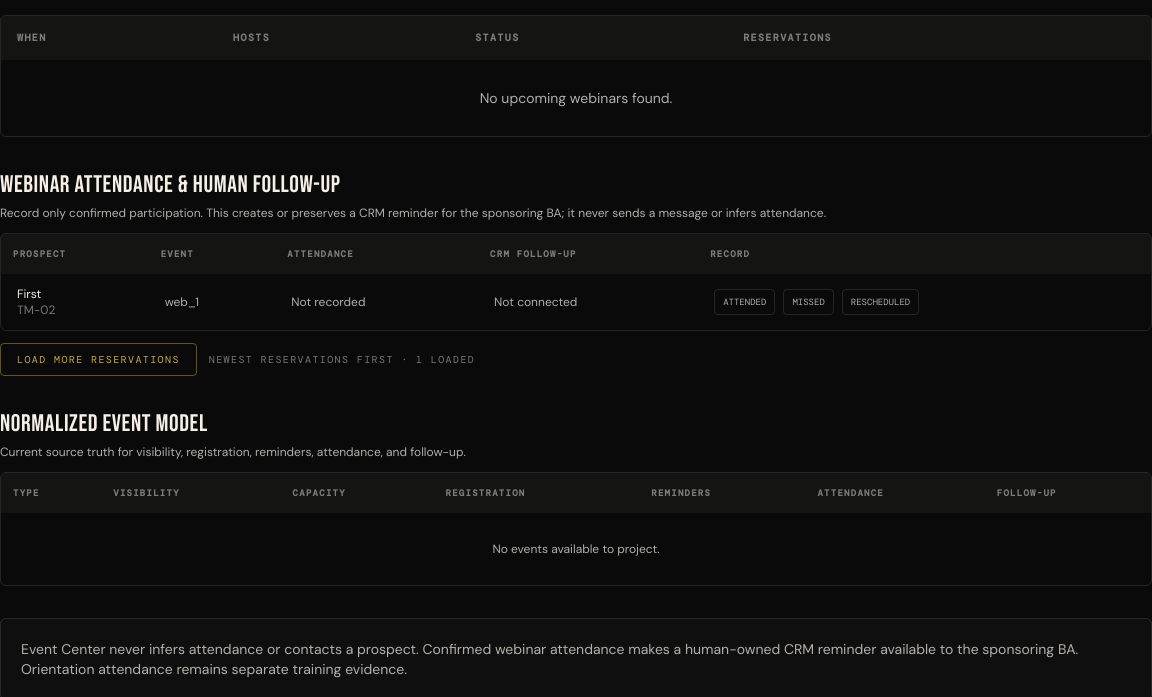
Scenario: Admin Event Center › appends, deduplicates, and exposes an honest terminal state
The width and height of the screenshot is (1152, 697).
(page scrolled)
Click the button "Load more reservations" at (98, 359), box [0,342,197,376]
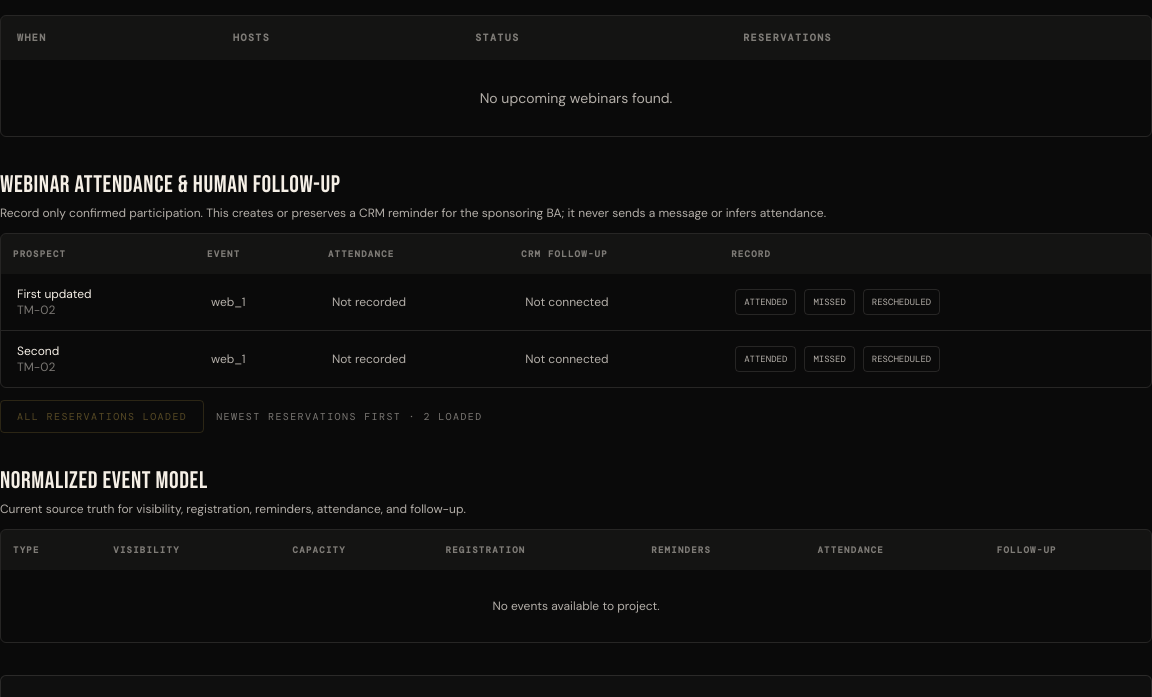
Now the text "Second" is shown, box [17,342,59,358]
Now the text "First updated" is shown, box [17,286,92,302]
Now the button "All reservations loaded" is disabled, box [0,400,204,432]
